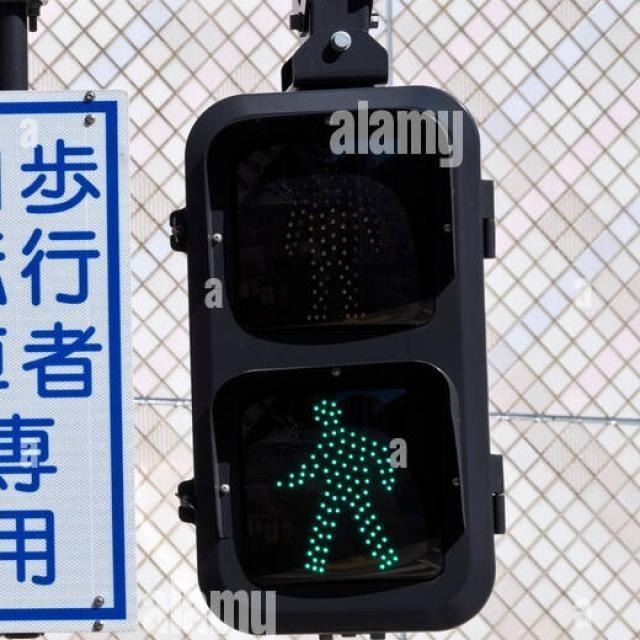geen-crossing: (276, 394, 396, 575)
